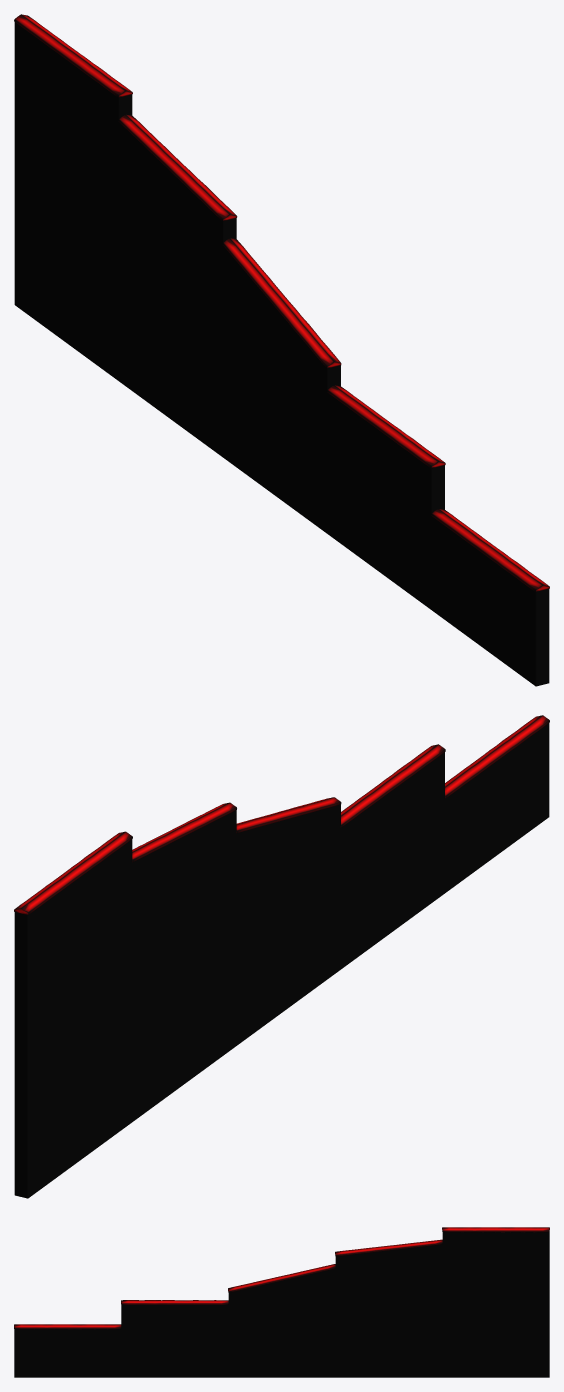
Rendered from fence_ramp.fbx.
3 views of the same model, one above another, from view 1: azimuth 30°, elevation 25°; view 2: azimuth 150°, elevation 25°; view 3: azimuth 270°, elevation 25° (orthographic). The views are drawn at different scales.
Visible parts, largest first — view 1: fence_ramp; view 2: fence_ramp; view 3: fence_ramp.
Boxes of the visible parts, box(x1,y1,x2,y2) form: fence_ramp: box(14, 14, 549, 686); fence_ramp: box(14, 715, 549, 1198); fence_ramp: box(14, 1227, 549, 1377).
Size of the model in its own units: 0.3373 by 6.11 by 20.03.
